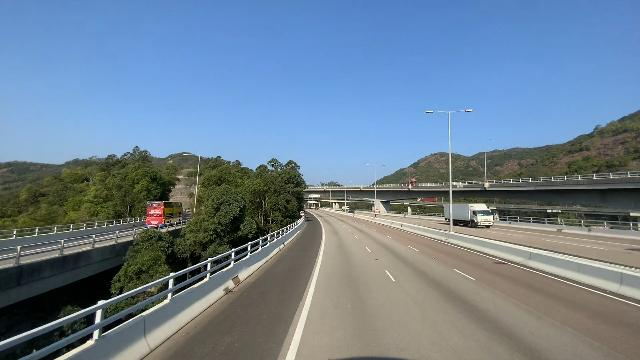bus: (147, 199, 184, 231)
truck: (444, 202, 495, 231)
